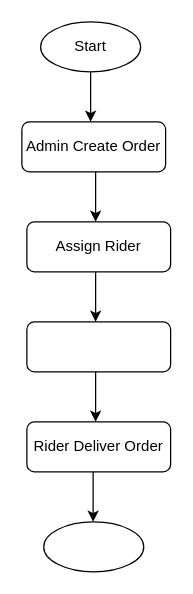
Image size: 193x594. Some labels were removed from this diagram. Here are the shapes that lost their labels. From the top down, the centre of each, then its label:
(x=98, y=346): Rider Pick Order
(x=93, y=546): End
